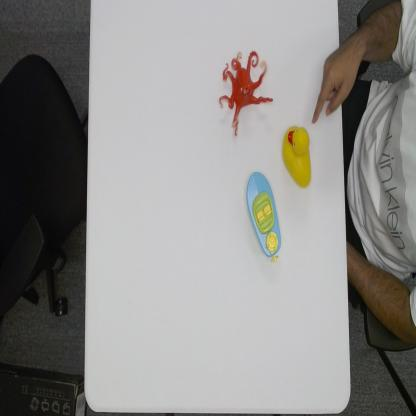Boat: (245, 170, 282, 264)
Duck: (281, 124, 312, 190)
Hand: (312, 30, 356, 124)
Octopus: (218, 49, 274, 139)
